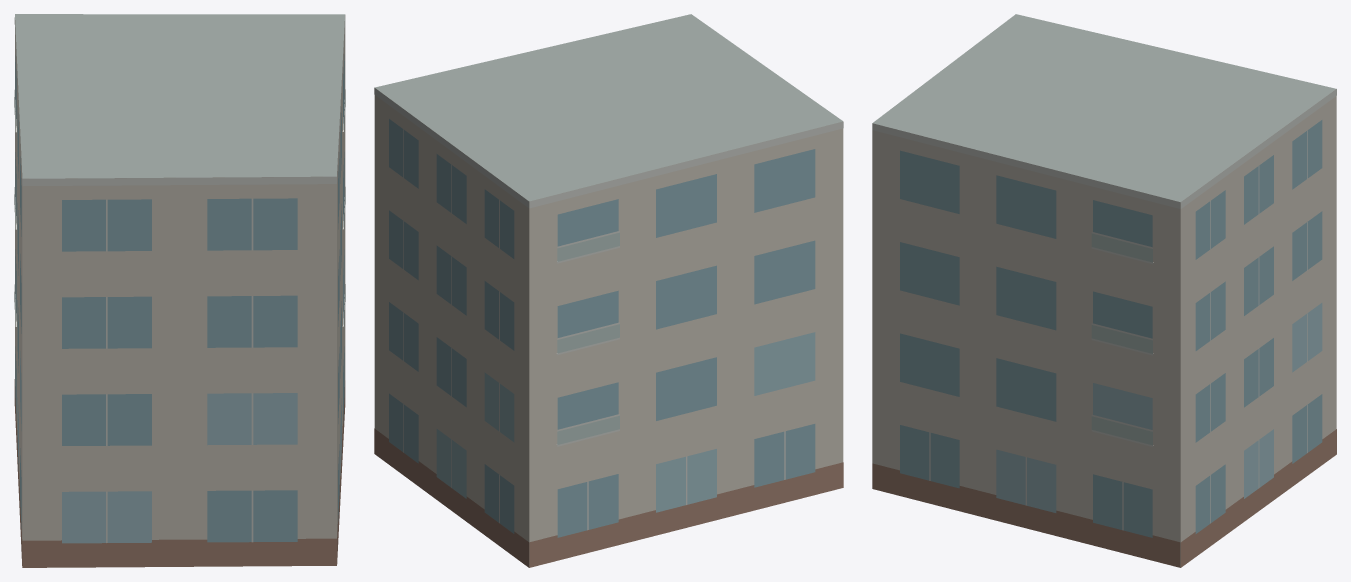
File: survey-upis-32664235.glb
3 views of the same model, side by side, from view 1: azimuth 30°, elevation 25°; view 2: azimuth 150°, elevation 25°; view 3: azimuth 270°, elevation 25° (orthographic). The views are drawn at different scales.
Parts seen in each view (by area): view 1: survey-upis-32664235.tmp; view 2: survey-upis-32664235.tmp; view 3: survey-upis-32664235.tmp.
Part boxes in pixels (x1,y1,x2,y2): survey-upis-32664235.tmp: [14, 14, 345, 567]; survey-upis-32664235.tmp: [374, 14, 843, 567]; survey-upis-32664235.tmp: [872, 14, 1336, 567].
Bounding box in the file's own units: 14.14 × 12.8 × 14.74.
